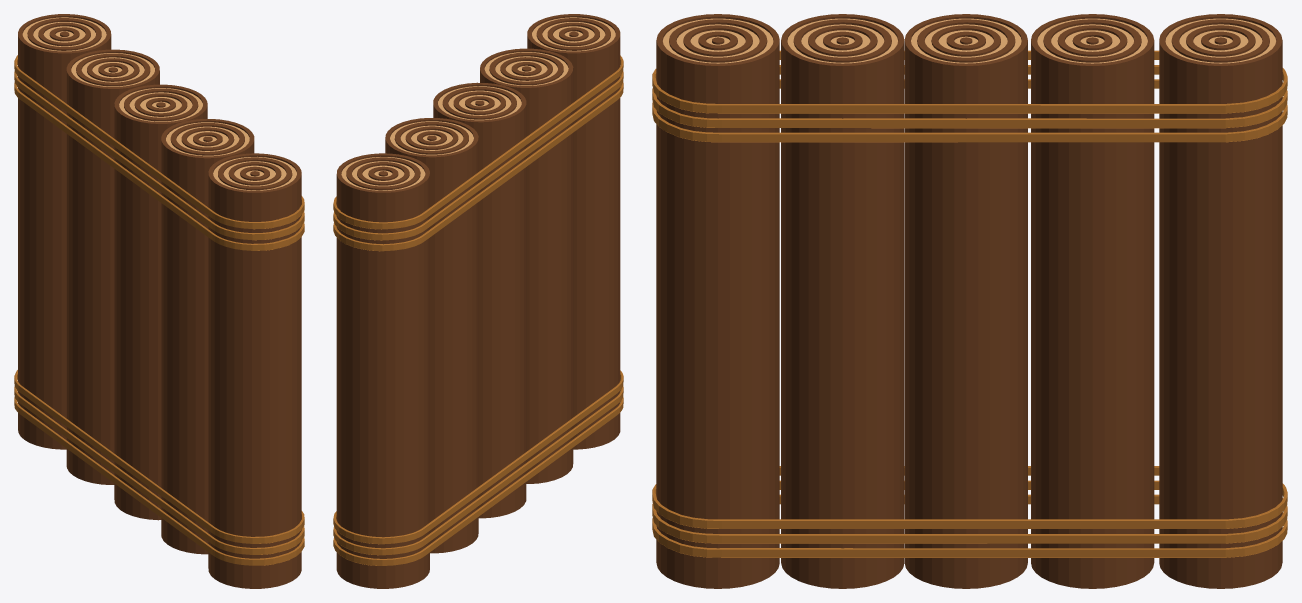
File: Bridge.fbx
3 renders of one model, left to right at view 1: azimuth 30°, elevation 25°; view 2: azimuth 150°, elevation 25°; view 3: azimuth 270°, elevation 25°, orthographic. The views are drawn at different scales.
Parts seen in each view (by area): view 1: Stake1, Stake3.002, Stake3.001, Stake2, Stake3, Rope1.002, Rope1.005, Rope1.001, Rope1, Rope1.004, Rope1.003; view 2: Stake3.002, Stake3.001, Stake3, Stake1, Stake2, Rope1.005, Rope1.002, Rope1.003, Rope1.001, Rope1, Rope1.004; view 3: Stake3, Stake3.001, Stake2, Stake3.002, Stake1, Rope1.001, Rope1, Rope1.002, Rope1.005, Rope1.003, Rope1.004.
Part boxes in pixels (x1,y1,x2,y2): Stake1: (208, 153, 301, 588); Stake3.002: (18, 14, 111, 449); Stake3.001: (66, 49, 159, 484); Stake2: (161, 119, 254, 554); Stake3: (114, 84, 207, 520); Rope1.002: (14, 55, 304, 229); Rope1.005: (14, 370, 304, 543); Rope1.001: (14, 77, 304, 250); Rope1: (14, 71, 304, 240); Rope1.004: (14, 397, 304, 565); Rope1.003: (14, 386, 304, 554); Stake3.002: (336, 153, 429, 588); Stake3.001: (385, 118, 478, 553); Stake3: (433, 82, 526, 518); Stake1: (527, 14, 620, 449); Stake2: (480, 48, 573, 483); Rope1.005: (333, 370, 623, 544); Rope1.002: (333, 55, 623, 229); Rope1.003: (333, 386, 623, 555); Rope1.001: (333, 82, 623, 251); Rope1: (333, 71, 623, 240); Rope1.004: (333, 397, 623, 565); Stake3: (904, 14, 1027, 588); Stake3.001: (1031, 14, 1154, 588); Stake2: (781, 14, 904, 588); Stake3.002: (1159, 14, 1282, 588); Stake1: (656, 14, 779, 588); Rope1.001: (652, 79, 1287, 142); Rope1: (652, 65, 1287, 128); Rope1.002: (652, 50, 1287, 113); Rope1.005: (652, 466, 1287, 528); Rope1.003: (652, 480, 1287, 543); Rope1.004: (652, 494, 1287, 557).
Size of the model in its own units: 337 by 1496 by 1647.
